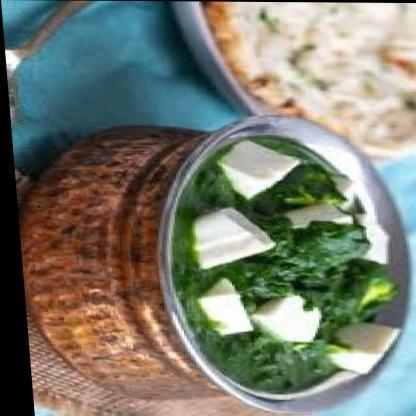palak_paneer: (157, 134, 397, 395)
